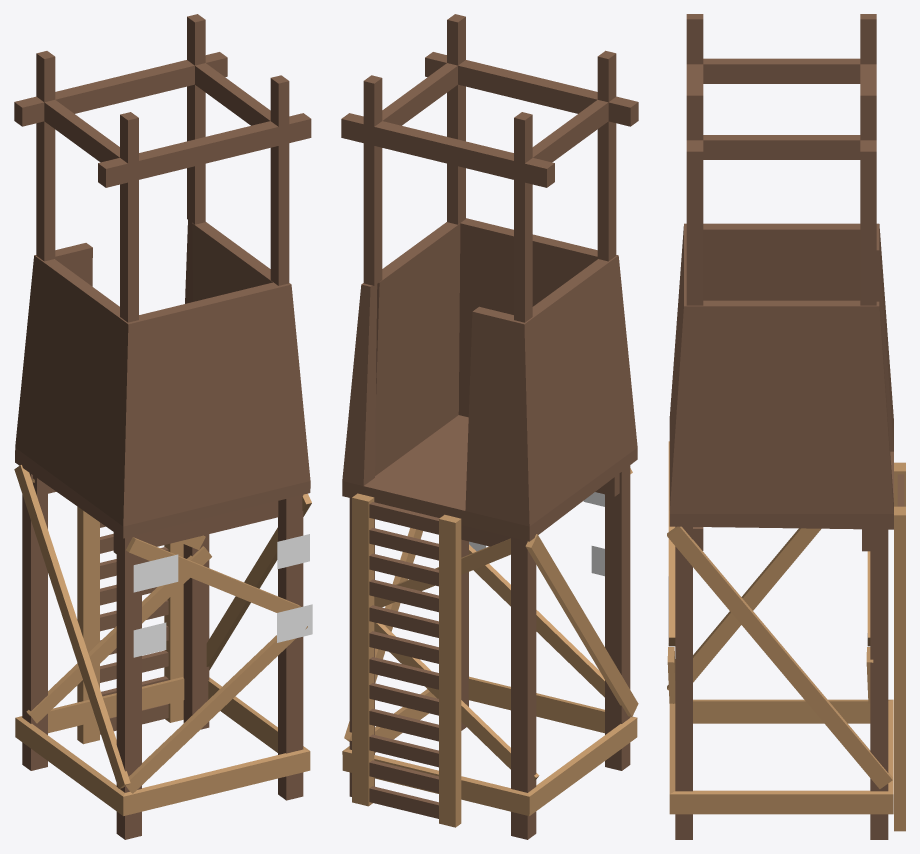
File: WatchTower_02.fbx
3 views of the same model, side by side, from view 1: azimuth 30°, elevation 25°; view 2: azimuth 150°, elevation 25°; view 3: azimuth 270°, elevation 25° (orthographic). The views are drawn at different scales.
Visible parts, largest first — view 1: WatchTower_02; view 2: WatchTower_02; view 3: WatchTower_02.
Boxes of the visible parts, box(x1,y1,x2,y2) form: WatchTower_02: box(14, 14, 312, 839); WatchTower_02: box(341, 14, 638, 839); WatchTower_02: box(667, 14, 905, 839).
Size of the model in its own units: 1.53 by 5.07 by 1.48.
